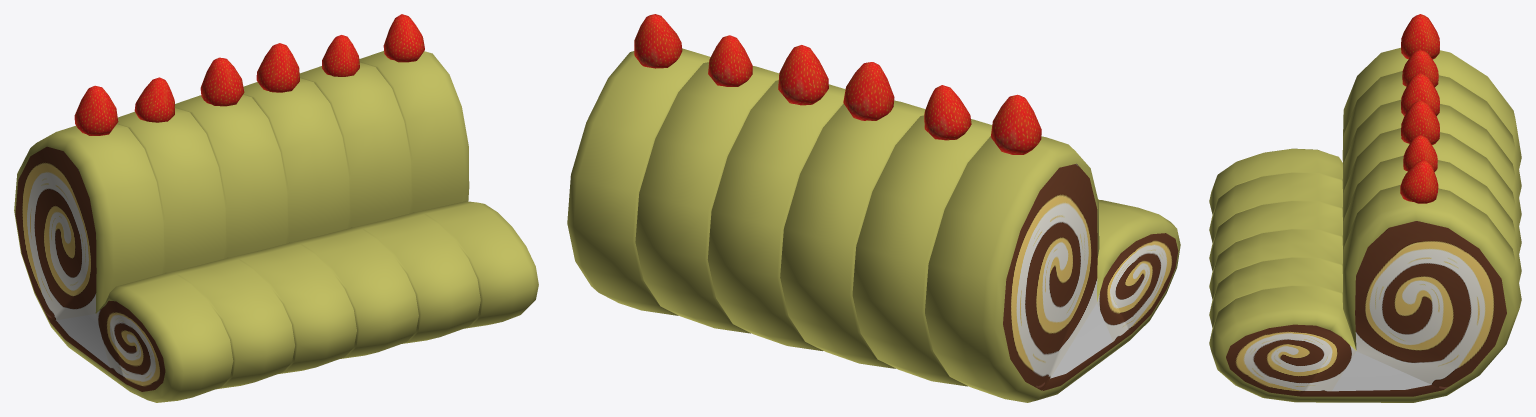
The model's file is cake-roll-sofa.glb.
The picture shows the model from 3 angles, left to right: view 1: azimuth 30°, elevation 25°; view 2: azimuth 150°, elevation 25°; view 3: azimuth 270°, elevation 25°; orthographic projection. The views are drawn at different scales.
Visible parts, largest first — view 1: macha-roll-sofa; view 2: macha-roll-sofa; view 3: macha-roll-sofa.
Boxes of the visible parts, x1=… form: macha-roll-sofa: x1=14, y1=14, x2=538, y2=402; macha-roll-sofa: x1=567, y1=14, x2=1180, y2=402; macha-roll-sofa: x1=1209, y1=14, x2=1521, y2=402.
Size of what is drawn, in the model's own units: 5.11 by 3.38 by 3.98.
2 materials, 2 textured.
